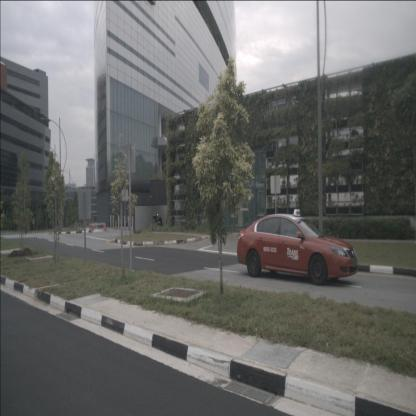cone: (102, 221, 106, 230), (114, 220, 118, 229), (105, 222, 107, 232)
